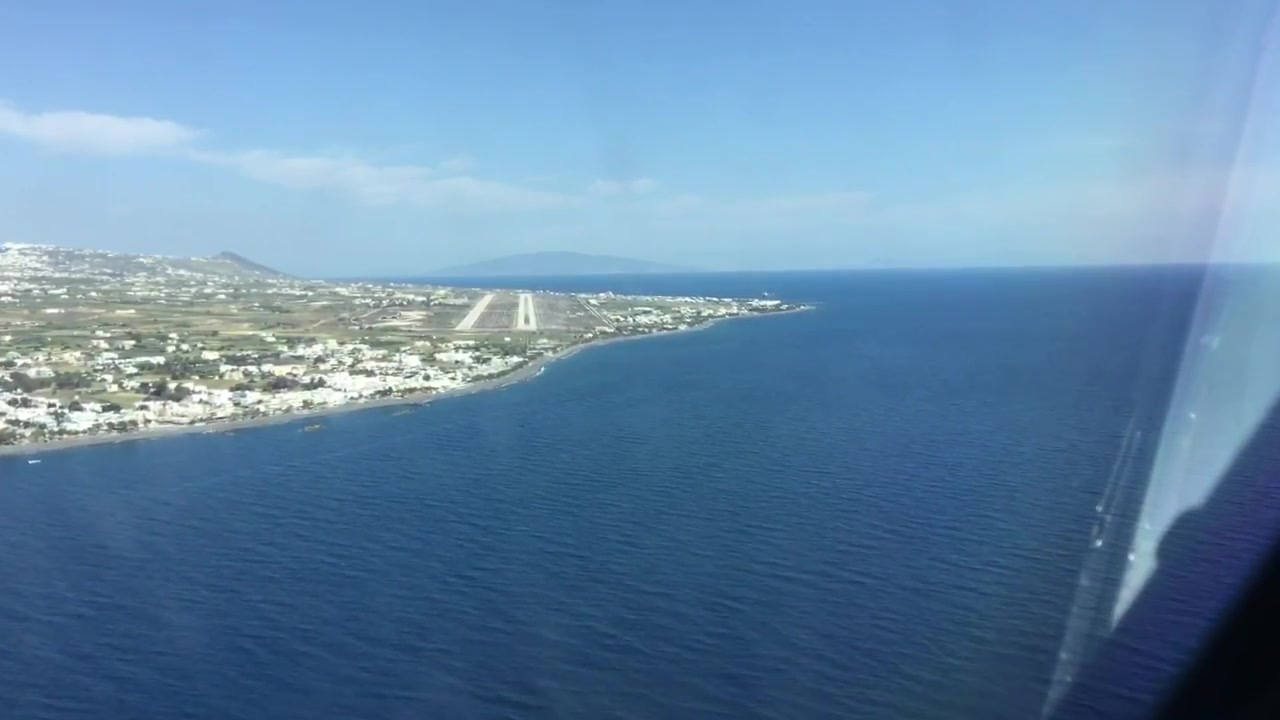runway: (453, 292, 497, 331), (514, 293, 540, 331)
